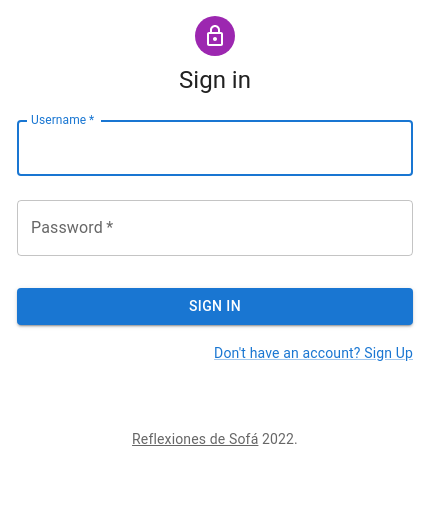
Test: Close error alert when click on the close icon.
Type "username" into the field with id "username" at [215, 148], box x1=17 y1=120 x2=413 y2=176
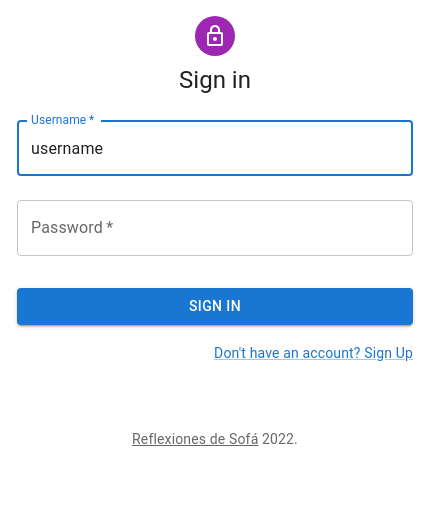
Type "password" into the password field labelled "Password *" at [215, 228], box x1=17 y1=200 x2=413 y2=256
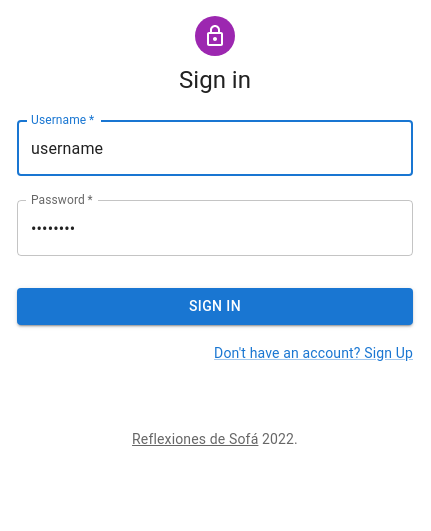
Click the button with test id "sign-in-button" at [215, 306], box x1=17 y1=288 x2=413 y2=324
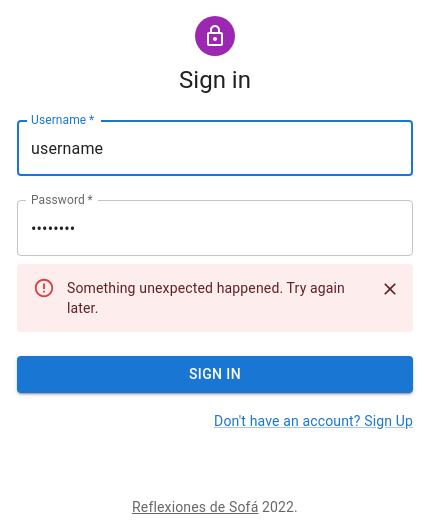
Check: the message "Something unexpected happened. Try again later." is shown, box x1=17 y1=264 x2=413 y2=332
Click the button with test id "CloseIcon" at [390, 289], box x1=375 y1=274 x2=405 y2=304
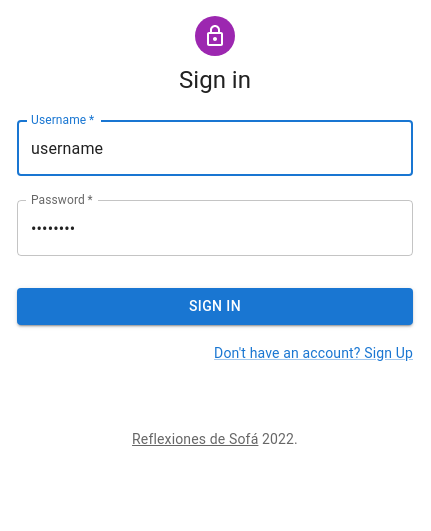
Check: the message with test id "login-error-alert" is gone
